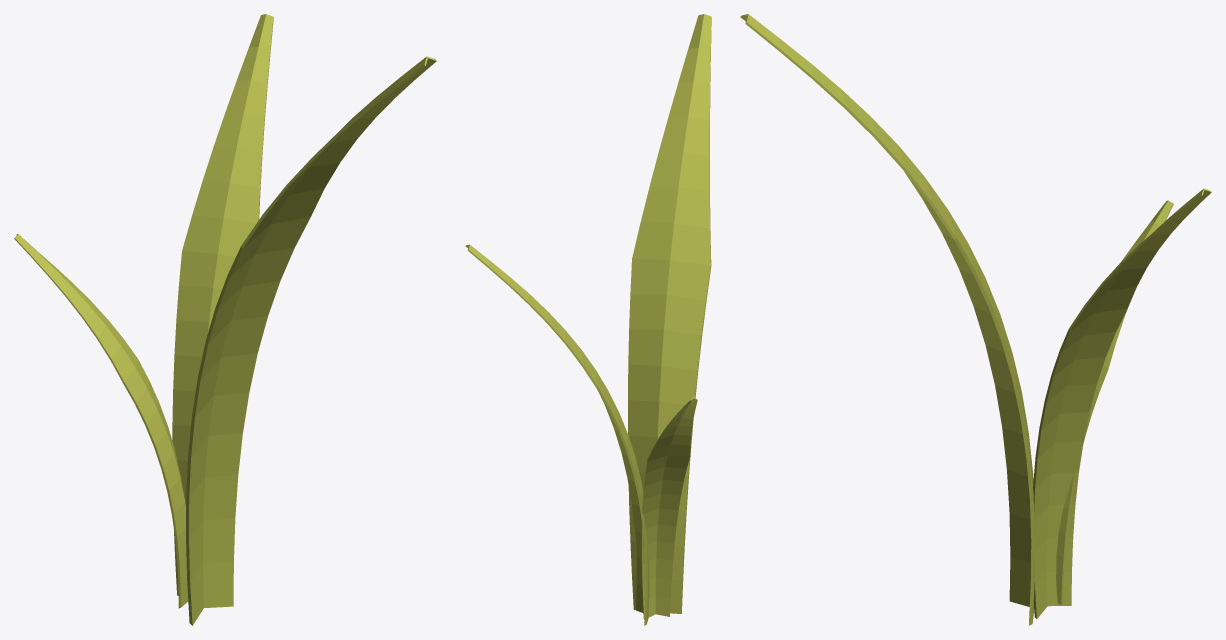
The model's file is grass_06.fbx.
The picture shows the model from 3 angles, left to right: view 1: azimuth 30°, elevation 25°; view 2: azimuth 150°, elevation 25°; view 3: azimuth 270°, elevation 25°; orthographic projection. The views are drawn at different scales.
Parts seen in each view (by area): view 1: Cube.004; view 2: Cube.004; view 3: Cube.004.
Part boxes in pixels (x1,y1,x2,y2): Cube.004: [14, 14, 436, 625]; Cube.004: [465, 14, 711, 625]; Cube.004: [740, 14, 1211, 625].
Size of the model in its own units: 41.98 by 92.61 by 62.13.
